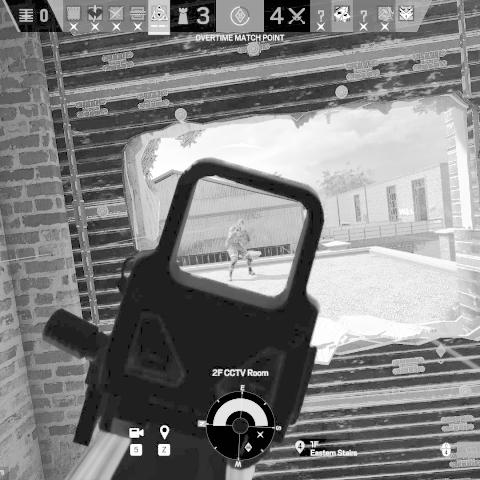Character: (224, 218, 256, 282)
Head: (238, 219, 244, 228)
